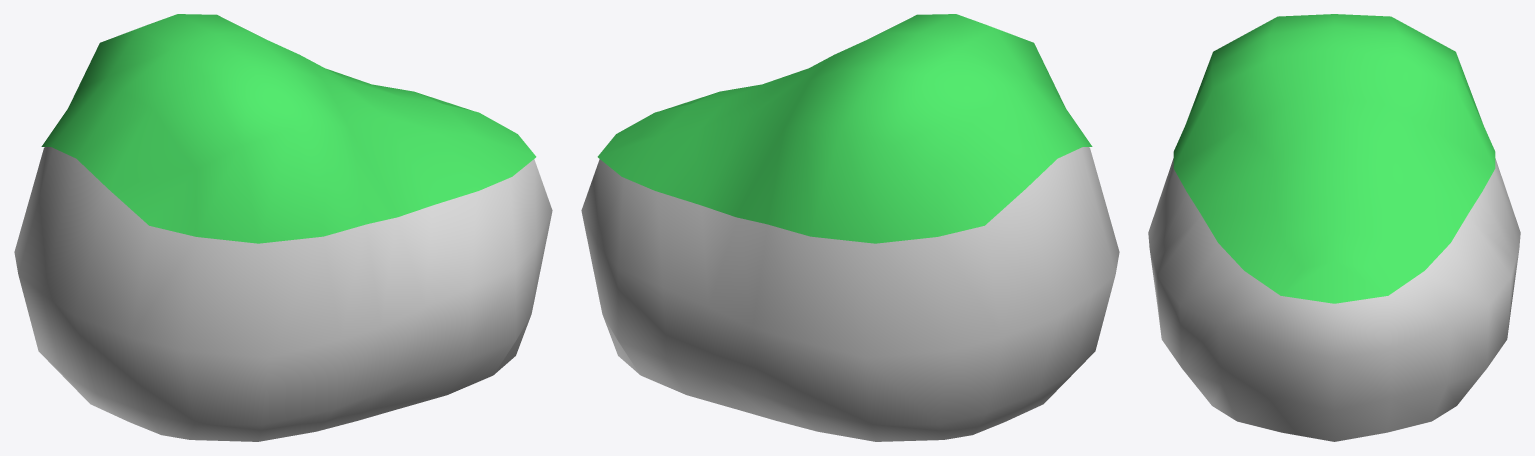
File: RockBig_B_Moss.fbx
3 renders of one model, left to right at view 1: azimuth 30°, elevation 25°; view 2: azimuth 150°, elevation 25°; view 3: azimuth 270°, elevation 25°, orthographic. The views are drawn at different scales.
Visible parts, largest first — view 1: RockBig_B_Moss_LOD0; view 2: RockBig_B_Moss_LOD0; view 3: RockBig_B_Moss_LOD0.
Boxes of the visible parts, box(x1,y1,x2,y2) form: RockBig_B_Moss_LOD0: box(14, 14, 552, 441); RockBig_B_Moss_LOD0: box(581, 14, 1119, 441); RockBig_B_Moss_LOD0: box(1148, 14, 1520, 441).
Size of what is drawn, in the model's own units: 6.79 by 4.51 by 5.21.
